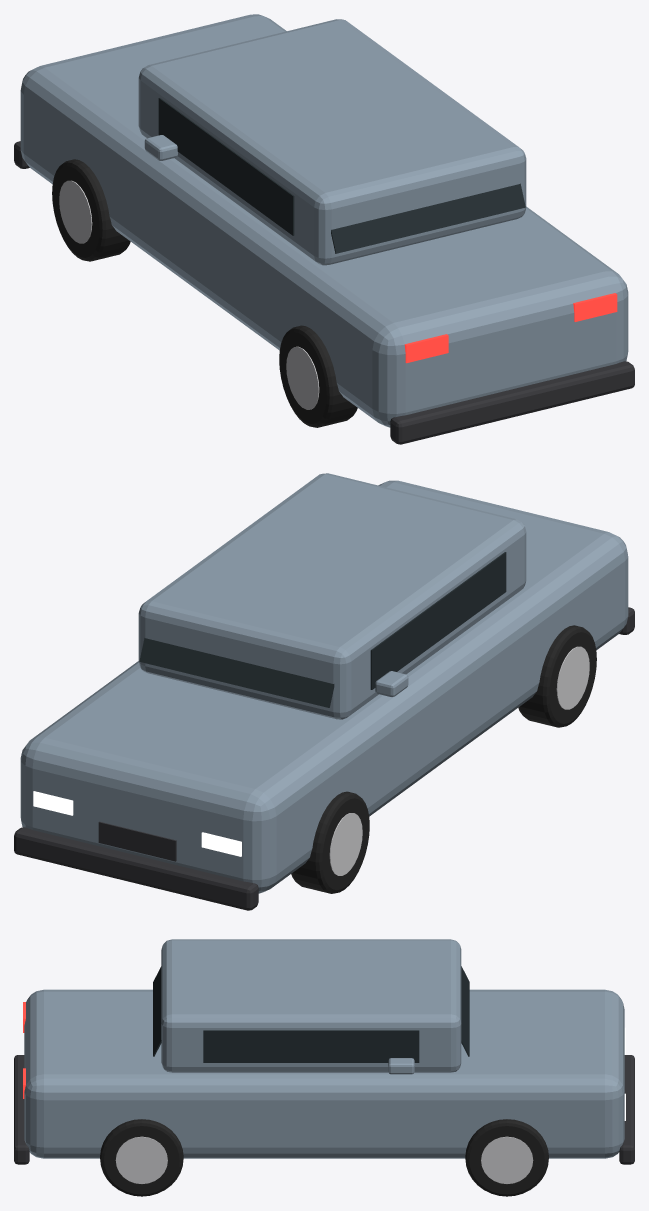
Rendered from car_sedan.glb.
3 views of the same model, one above another, from view 1: azimuth 30°, elevation 25°; view 2: azimuth 150°, elevation 25°; view 3: azimuth 270°, elevation 25° (orthographic). The views are drawn at different scales.
Parts seen in each view (by area): view 1: car_sedan; view 2: car_sedan; view 3: car_sedan.
Part boxes in pixels (x1=…): car_sedan: x1=14, y1=14, x2=634, y2=444; car_sedan: x1=14, y1=473, x2=634, y2=910; car_sedan: x1=14, y1=939, x2=634, y2=1196.
Bounding box in the file's own units: 1.93 × 1.42 × 4.76.
